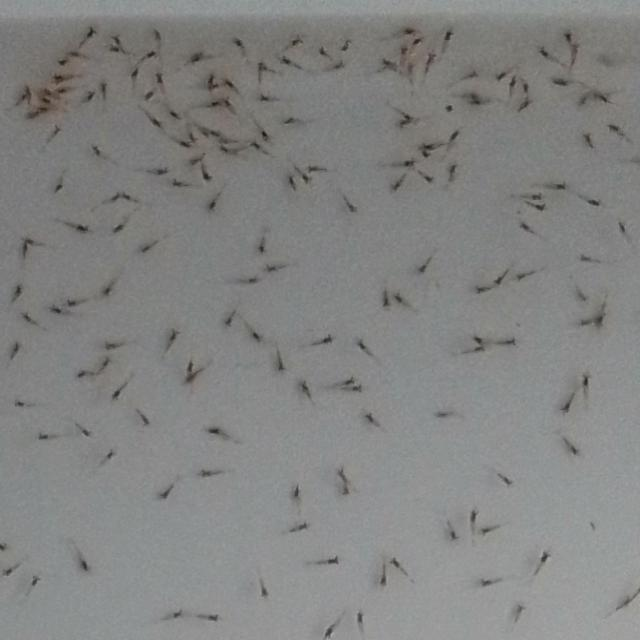shrimp-seed: (537, 548, 553, 566), (560, 400, 574, 416), (416, 260, 430, 276), (448, 128, 462, 144), (110, 387, 124, 402), (78, 559, 91, 575), (205, 426, 222, 438), (480, 576, 494, 590), (364, 412, 378, 426), (169, 329, 183, 343), (250, 331, 264, 345), (246, 274, 260, 288), (112, 222, 126, 236), (614, 220, 628, 234), (607, 124, 623, 136), (154, 166, 170, 178), (480, 524, 493, 538), (466, 507, 479, 521), (389, 556, 402, 570), (12, 398, 26, 411), (184, 373, 198, 386), (102, 284, 115, 298), (421, 174, 435, 187), (307, 162, 321, 175), (150, 28, 163, 42), (596, 94, 611, 106), (402, 157, 418, 168), (448, 531, 462, 543), (172, 607, 184, 621), (290, 484, 302, 498), (160, 488, 172, 502), (580, 373, 592, 387), (342, 376, 356, 388), (182, 360, 196, 372), (320, 334, 334, 346), (356, 340, 370, 352), (473, 343, 487, 355), (505, 336, 519, 348), (594, 314, 606, 328), (476, 284, 490, 296), (65, 297, 79, 309), (138, 243, 152, 255), (519, 221, 533, 233), (589, 198, 603, 210), (53, 182, 65, 196), (562, 30, 576, 42), (552, 76, 566, 88), (520, 98, 534, 110), (381, 56, 393, 70), (84, 26, 98, 38), (264, 264, 280, 274), (465, 92, 481, 102), (339, 486, 352, 498), (502, 476, 514, 489), (436, 408, 448, 421), (298, 381, 310, 394), (76, 369, 88, 382), (105, 340, 118, 352), (578, 316, 590, 329), (447, 164, 459, 177), (389, 182, 402, 194), (496, 70, 508, 83), (339, 40, 352, 52), (76, 223, 90, 234), (333, 470, 348, 480), (402, 27, 417, 37), (516, 604, 528, 616), (378, 576, 390, 588), (328, 556, 340, 568), (2, 567, 14, 579), (297, 522, 309, 534), (139, 416, 151, 428), (568, 445, 580, 457), (12, 342, 24, 354), (274, 361, 286, 373), (576, 292, 588, 304), (380, 296, 392, 308), (390, 292, 402, 304), (20, 312, 32, 324), (14, 285, 26, 297), (23, 236, 35, 248), (494, 274, 506, 286), (578, 252, 590, 264), (208, 202, 220, 214), (569, 43, 581, 55), (442, 32, 454, 44), (425, 52, 437, 64), (404, 63, 416, 75), (52, 124, 64, 136), (186, 133, 198, 145), (198, 129, 210, 141), (152, 118, 164, 130), (208, 100, 220, 112), (144, 90, 156, 102), (0, 541, 11, 554), (200, 469, 213, 480), (223, 318, 236, 329), (207, 614, 221, 624), (31, 576, 41, 590), (78, 430, 92, 440), (420, 142, 434, 152), (177, 141, 191, 151), (470, 98, 485, 107), (50, 304, 61, 316), (531, 191, 543, 202), (556, 182, 568, 193), (110, 192, 122, 203), (398, 46, 410, 57), (200, 172, 212, 183), (224, 78, 235, 90), (354, 614, 364, 626), (324, 626, 334, 638), (260, 587, 270, 599), (106, 450, 118, 460), (37, 432, 49, 442), (351, 384, 363, 394), (472, 335, 484, 345), (20, 243, 30, 255), (516, 272, 528, 282), (256, 244, 266, 256), (535, 204, 547, 214), (346, 204, 358, 214), (122, 190, 132, 202), (577, 97, 589, 107), (466, 70, 478, 80), (317, 46, 327, 58), (280, 55, 292, 65), (249, 142, 261, 152), (284, 116, 296, 126), (260, 94, 272, 104), (234, 38, 244, 50), (260, 130, 270, 142), (90, 145, 100, 157), (206, 72, 216, 84), (190, 56, 202, 66), (130, 68, 140, 80), (538, 48, 548, 59), (397, 120, 408, 130), (172, 180, 183, 190), (221, 98, 231, 109), (209, 82, 220, 92), (146, 49, 156, 60), (53, 76, 64, 86), (522, 82, 531, 94), (190, 51, 202, 60), (103, 359, 113, 369), (508, 79, 518, 89), (404, 114, 414, 124), (413, 38, 423, 48), (338, 60, 348, 70), (293, 37, 303, 47), (302, 175, 312, 185), (230, 148, 240, 158), (190, 158, 200, 168), (209, 129, 219, 139), (170, 110, 180, 120), (111, 34, 121, 44), (107, 44, 117, 54), (99, 82, 109, 92), (88, 91, 98, 101), (70, 50, 80, 60), (58, 60, 68, 70), (58, 86, 68, 96), (42, 86, 52, 96), (40, 95, 50, 105), (29, 110, 39, 120), (583, 134, 594, 143), (218, 137, 230, 145), (420, 152, 430, 160), (256, 61, 264, 71), (156, 72, 164, 82), (39, 104, 47, 114), (220, 146, 228, 155), (18, 93, 28, 100), (24, 84, 32, 92), (287, 177, 295, 184)
